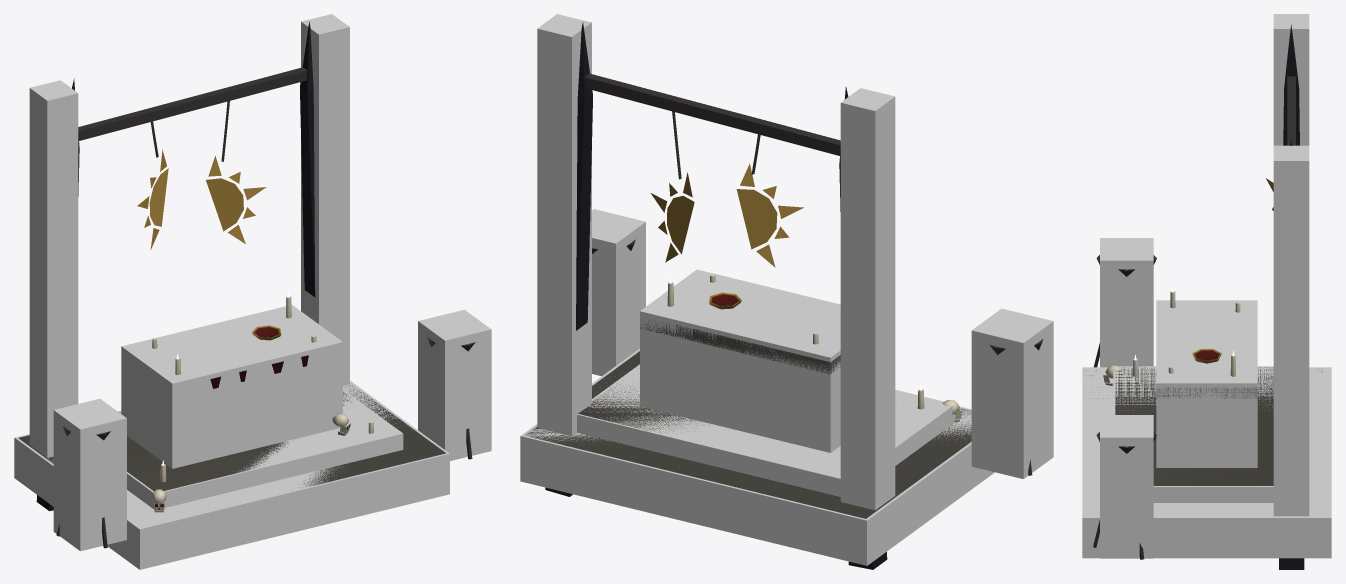
Rendered from cult_altar.glb.
3 views of the same model, side by side, from view 1: azimuth 30°, elevation 25°; view 2: azimuth 150°, elevation 25°; view 3: azimuth 270°, elevation 25° (orthographic). The views are drawn at different scales.
Parts seen in each view (by area): view 1: COL_altar, WALK_step_1, cult_altar, COL_post_l, COL_post_r, COL_brazier_l, COL_brazier_r, WALK_step_2; view 2: COL_altar, cult_altar, COL_post_l, WALK_step_1, COL_post_r, WALK_step_2, COL_brazier_l, COL_brazier_r; view 3: WALK_step_1, COL_altar, COL_post_r, cult_altar, COL_brazier_r, COL_brazier_l, WALK_step_2, COL_post_l.
Boxes of the visible parts, x1,y1,x2,y2 form: COL_altar: (121,305,342,468); WALK_step_1: (14,381,449,569); cult_altar: (18,22,475,548); COL_post_l: (29,80,78,457); COL_post_r: (301,14,349,385); COL_brazier_l: (53,398,126,551); COL_brazier_r: (418,309,491,460); WALK_step_2: (118,389,403,509); COL_altar: (640,269,840,452); cult_altar: (525,22,1043,569); COL_post_l: (840,88,895,510); WALK_step_1: (520,348,994,565); COL_post_r: (537,14,591,436); WALK_step_2: (577,364,954,496); COL_brazier_l: (971,308,1053,478); COL_brazier_r: (592,209,645,376); WALK_step_1: (1082,367,1331,558); COL_altar: (1156,300,1257,467); COL_post_r: (1273,145,1309,516); cult_altar: (1085,24,1322,569); COL_brazier_r: (1100,415,1153,558); COL_brazier_l: (1100,238,1153,367); WALK_step_2: (1113,366,1273,502); COL_post_l: (1273,14,1309,145).
Size of the model in its own units: 5.38 by 5.2 by 2.8.
